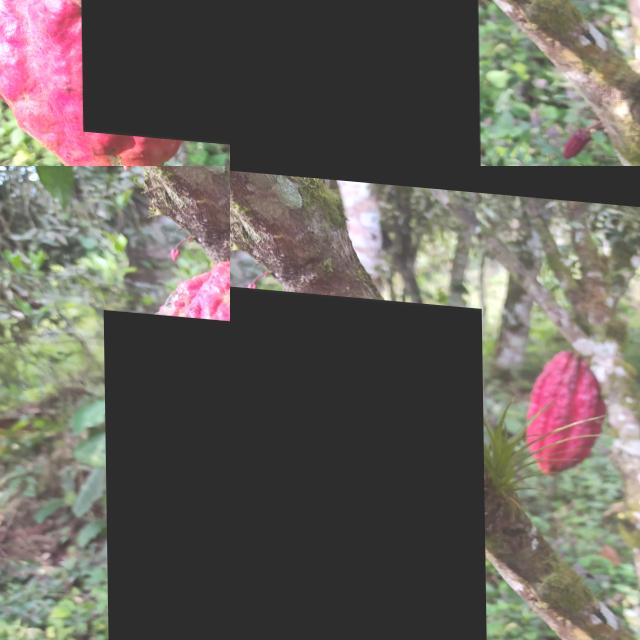Fitoftora: (77, 0, 230, 143)
Sana: (230, 279, 487, 640), (103, 307, 230, 640), (230, 0, 479, 166), (522, 338, 607, 468)
